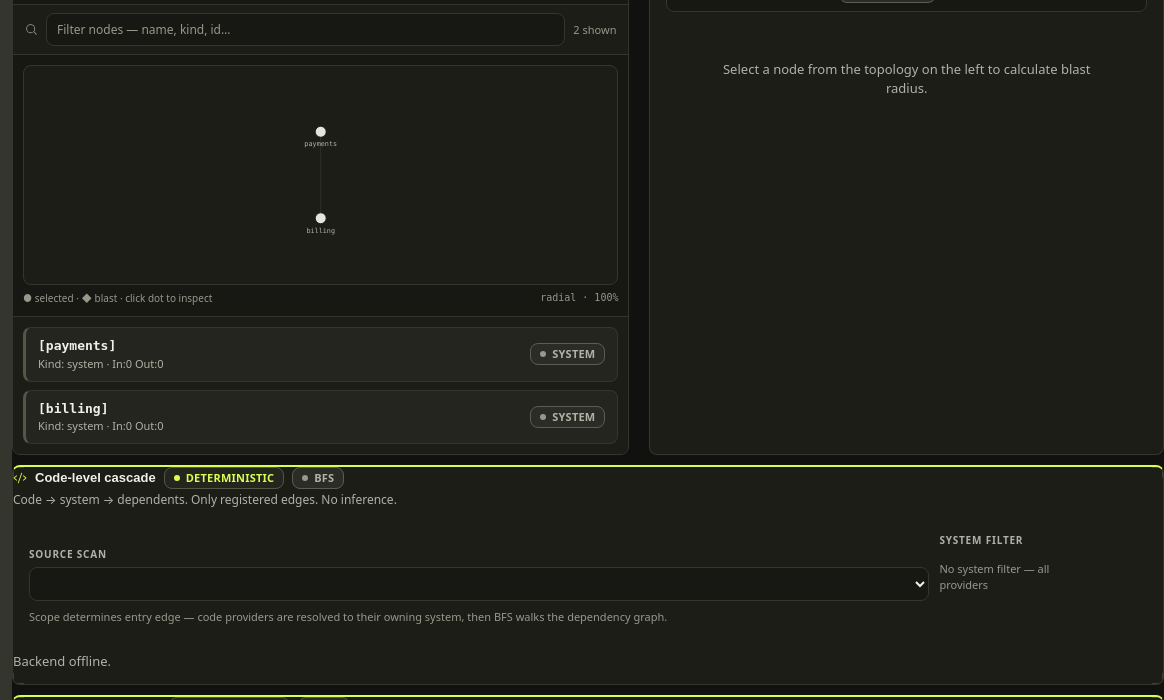
Test: DependencyGraph — honest blast radius and backend › discloses the provenance of the edges the blast radius traversed
(page scrolled)
Click the text "payments": [77, 345] box [46,338,108,353]
(page scrolled)
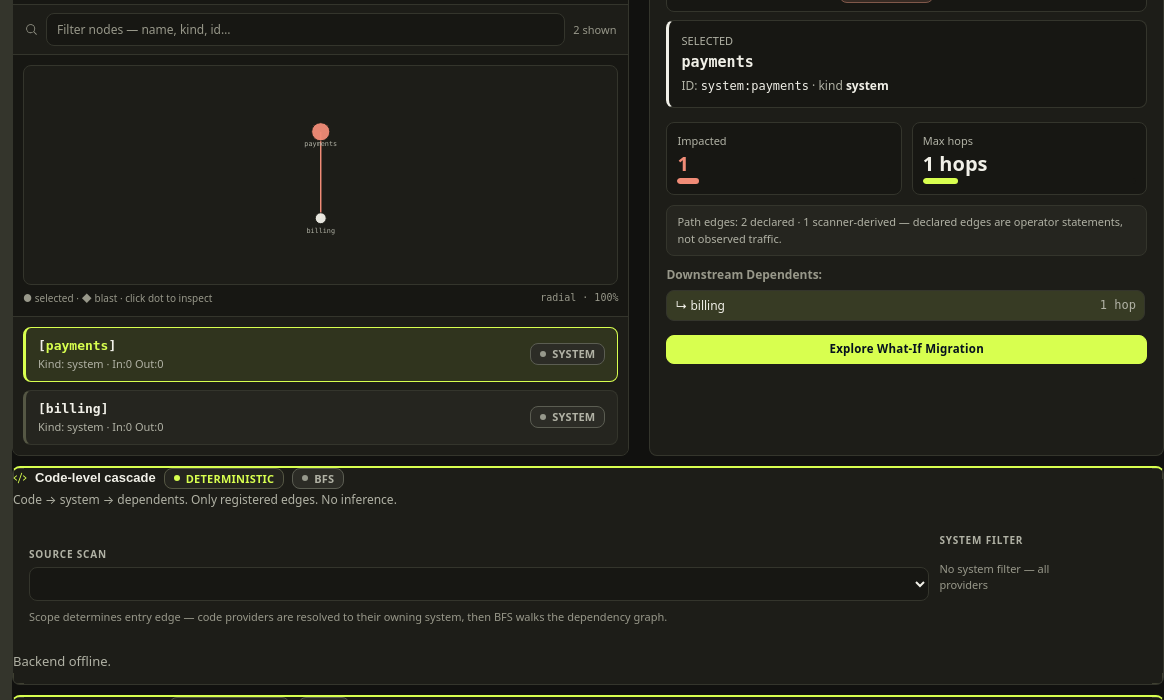
Result: the text "Path edges: 2 declared · 1 scanner-derived" is shown at [666,205,1147,256]
Result: the text "declared edges are operator statements, not observed traffic" is shown at [678,214,1123,246]
